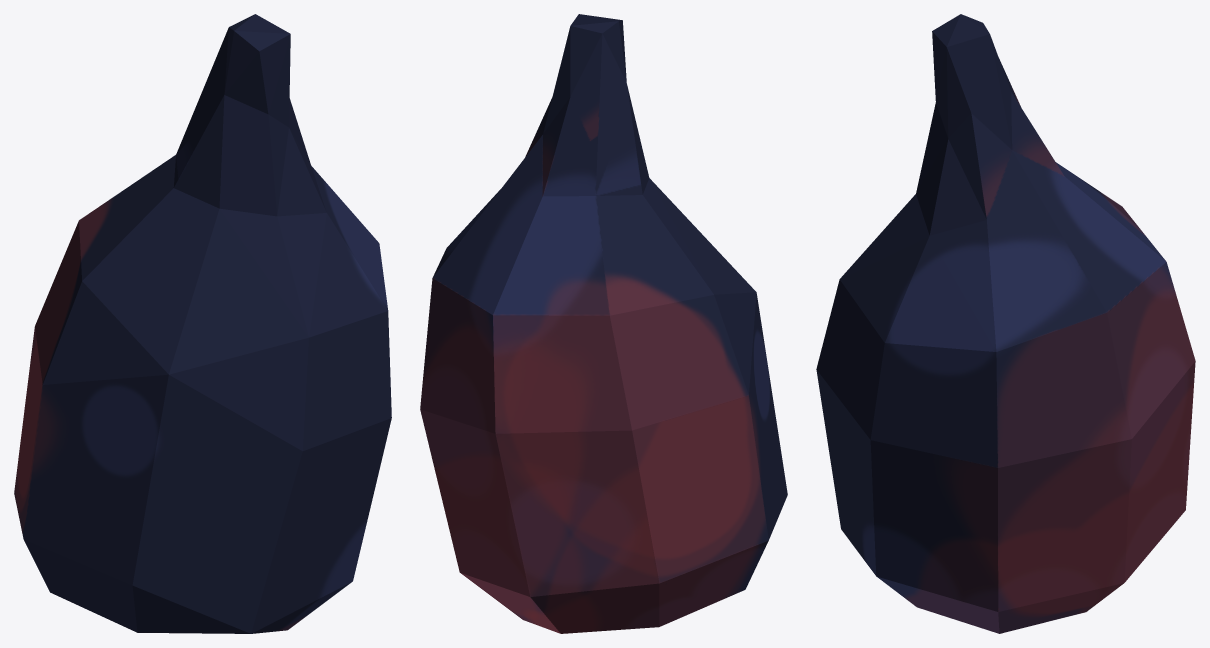
Rendered from FleshySack1.glb.
The picture shows the model from 3 angles, left to right: view 1: azimuth 30°, elevation 25°; view 2: azimuth 150°, elevation 25°; view 3: azimuth 270°, elevation 25°; orthographic projection. The views are drawn at different scales.
Visible parts, largest first — view 1: Plane; view 2: Plane; view 3: Plane.
Boxes of the visible parts, bbox=[...] form: Plane: bbox=[14, 14, 391, 633]; Plane: bbox=[420, 14, 787, 633]; Plane: bbox=[816, 14, 1195, 633].
Bounding box in the file's own units: 0.4403 × 0.7068 × 0.4185.
Materials: 1 (1 with a texture image).
